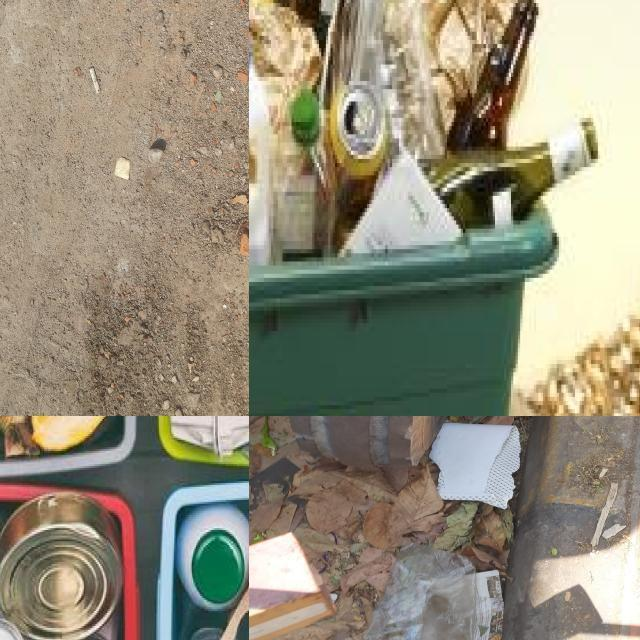Cig_bud: (89, 67, 100, 93)
Garbage: (249, 0, 598, 265), (249, 416, 533, 640), (0, 491, 123, 640)
Glass_bottle: (421, 120, 596, 229), (448, 0, 538, 152), (278, 0, 321, 25)
Metal: (0, 493, 123, 640)
Plastic: (249, 46, 271, 267)
Plastic_Bag: (362, 544, 475, 640)
Plastic_bottle: (362, 0, 443, 170), (273, 88, 336, 261), (176, 504, 249, 611)
can: (328, 82, 390, 248)
contaminated_waste: (176, 504, 249, 611)
